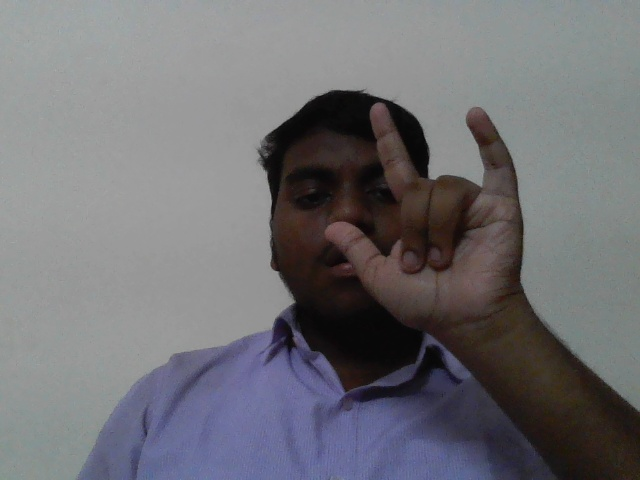I love you: (317, 95, 535, 345)
